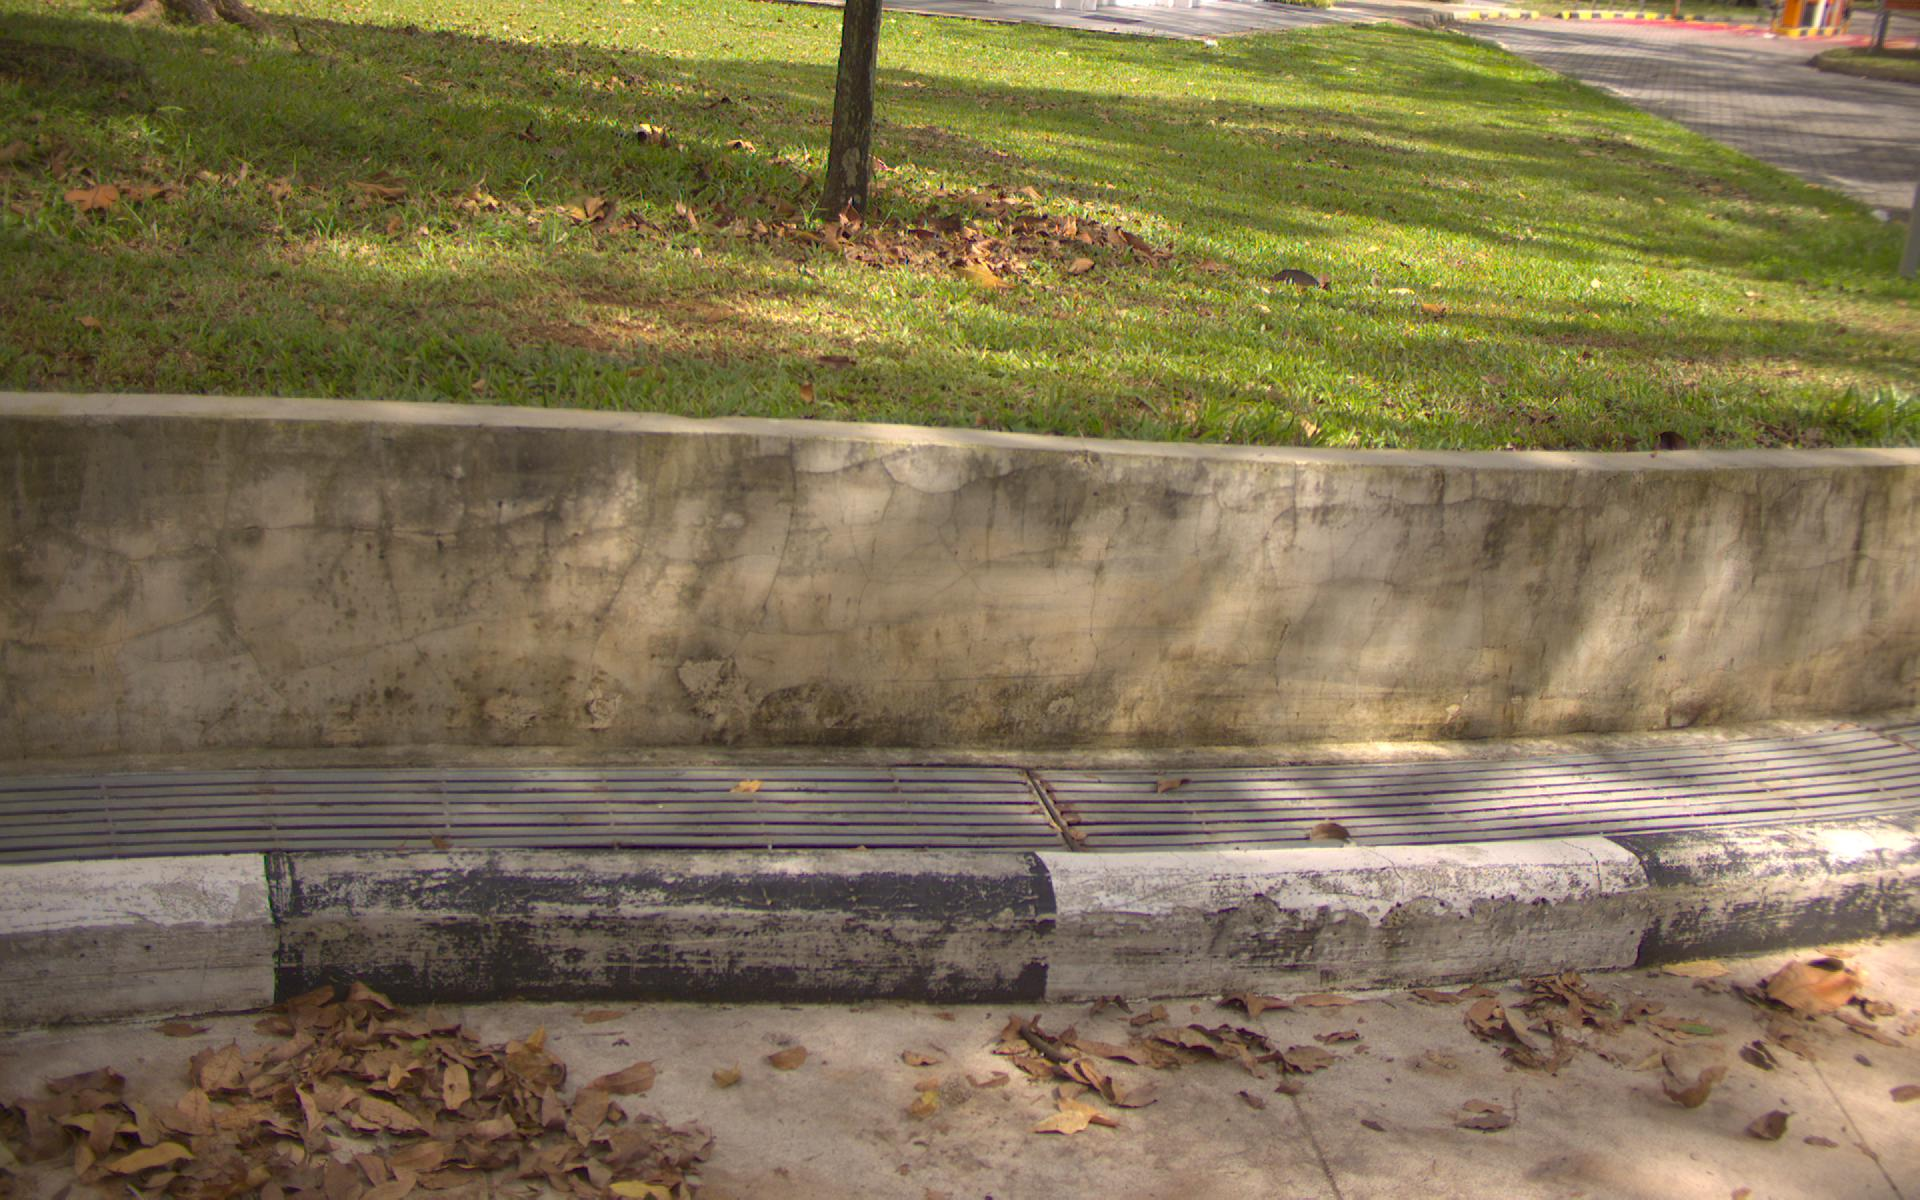curb_dic_low: (1, 724, 1910, 864)
road_curb_medium: (91, 1005, 1920, 1171)
road_turf_low: (23, 41, 1516, 412)
